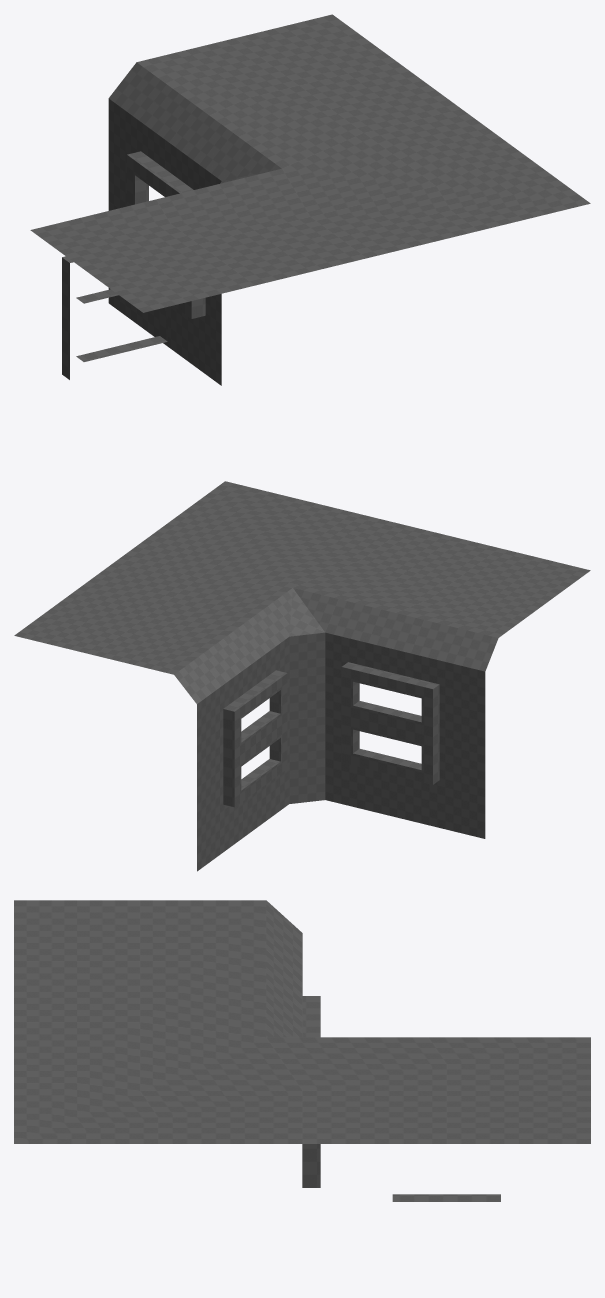
3 views of the same model, one above another, from view 1: azimuth 30°, elevation 25°; view 2: azimuth 150°, elevation 25°; view 3: azimuth 270°, elevation 25° (orthographic). The views are drawn at different scales.
Visible parts, largest first — view 1: CubeUpBackRight2V2; view 2: CubeUpBackRight2V2; view 3: CubeUpBackRight2V2.
Boxes of the visible parts, x1,y1,x2,y2 form: CubeUpBackRight2V2: (30,14,590,385); CubeUpBackRight2V2: (14,481,590,871); CubeUpBackRight2V2: (14,900,590,1201).
Bounding box in the file's own units: 4 × 2 × 4.
1 material, 1 textured.
